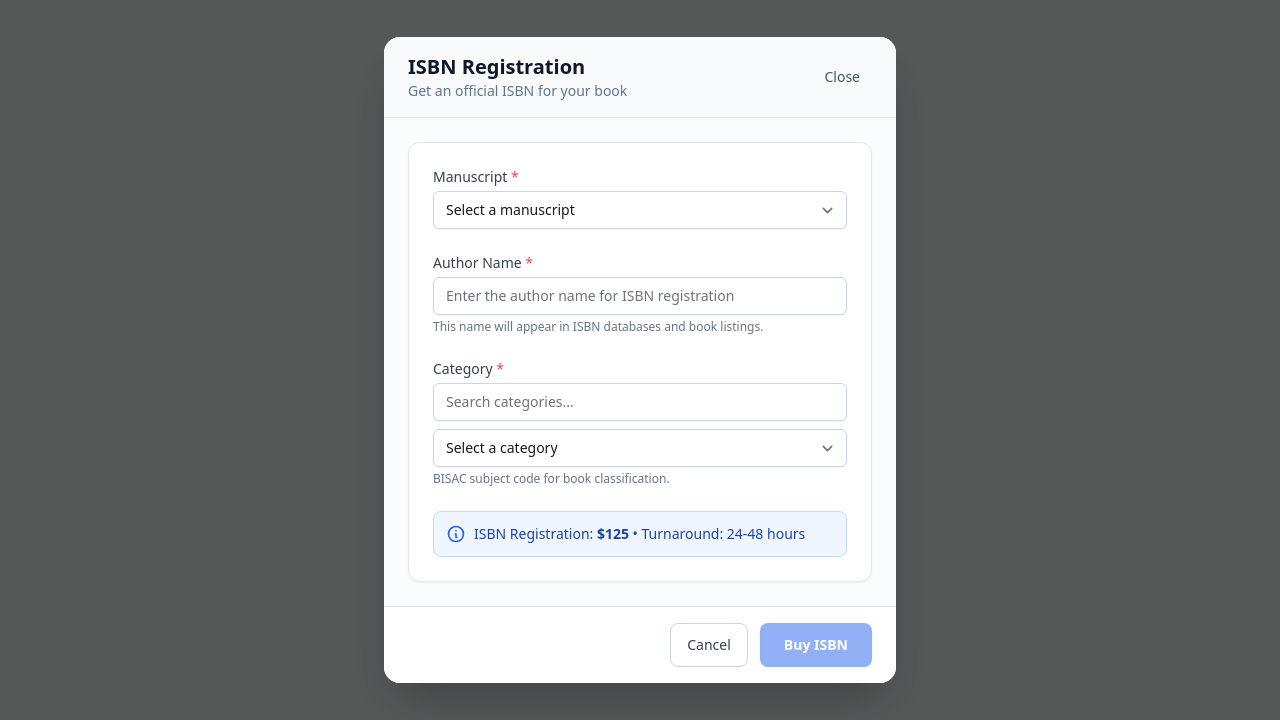
Test: IsbnRegistrationModal › falls back to API display name in marketplace context when no prop provided
This screenshot has width=1280, height=720.
Note: Select the manuscript
Select "My Book" in the dropdown labelled "Manuscript *" at (640, 210), box [433,191,847,229]
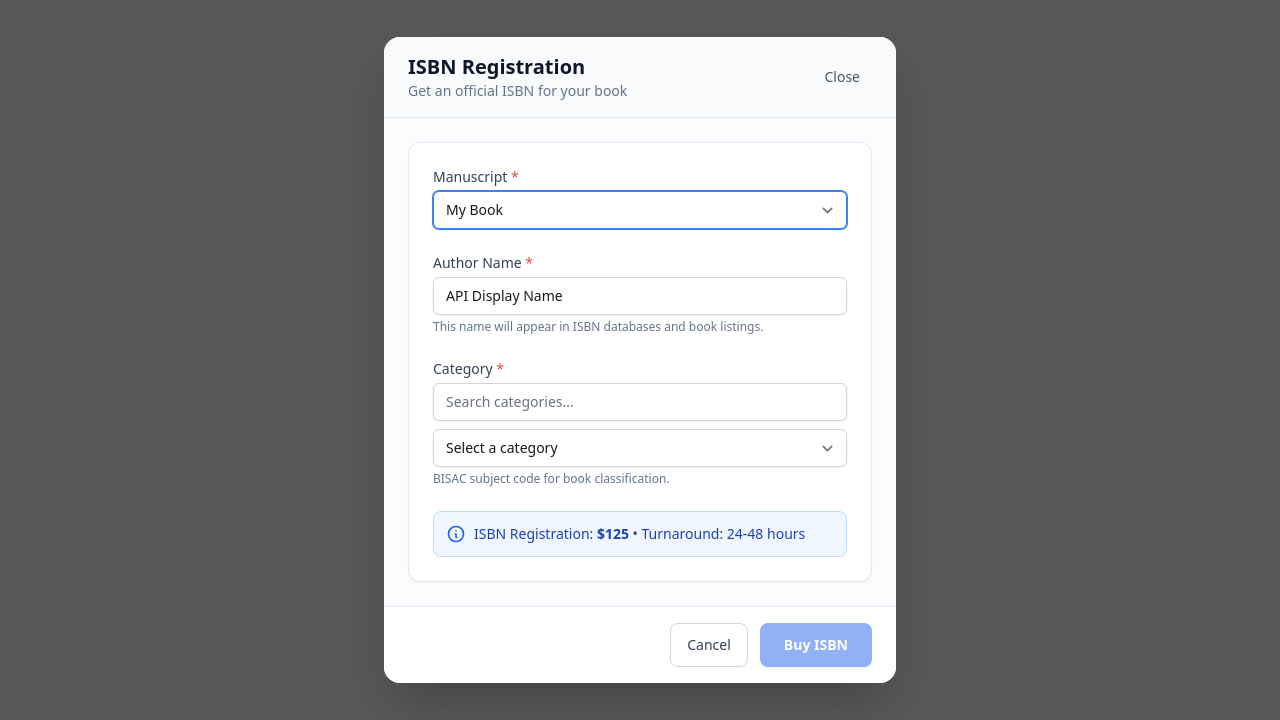
Expected: the field showing "API Display Name" is shown, [433,277,847,315]
